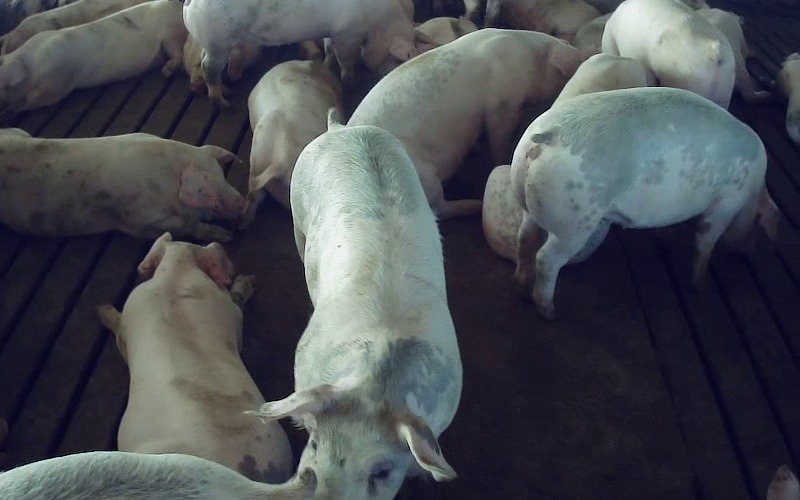pig: (260, 114, 461, 499), (511, 89, 777, 317), (98, 233, 291, 481), (348, 30, 586, 218), (184, 0, 415, 106), (243, 60, 341, 226), (602, 0, 734, 107)
